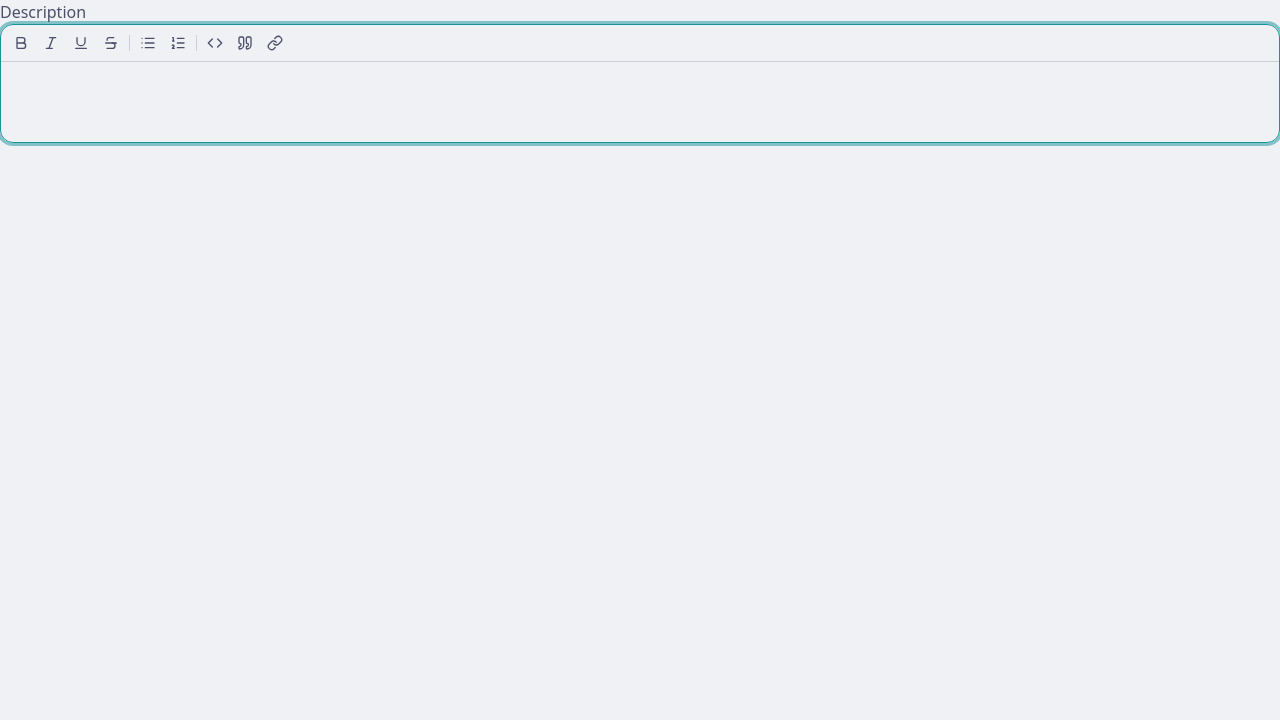
Test: RichTextEditor › links › clears the rejection once the address is edited
The image size is (1280, 720).
Type keys "towels"
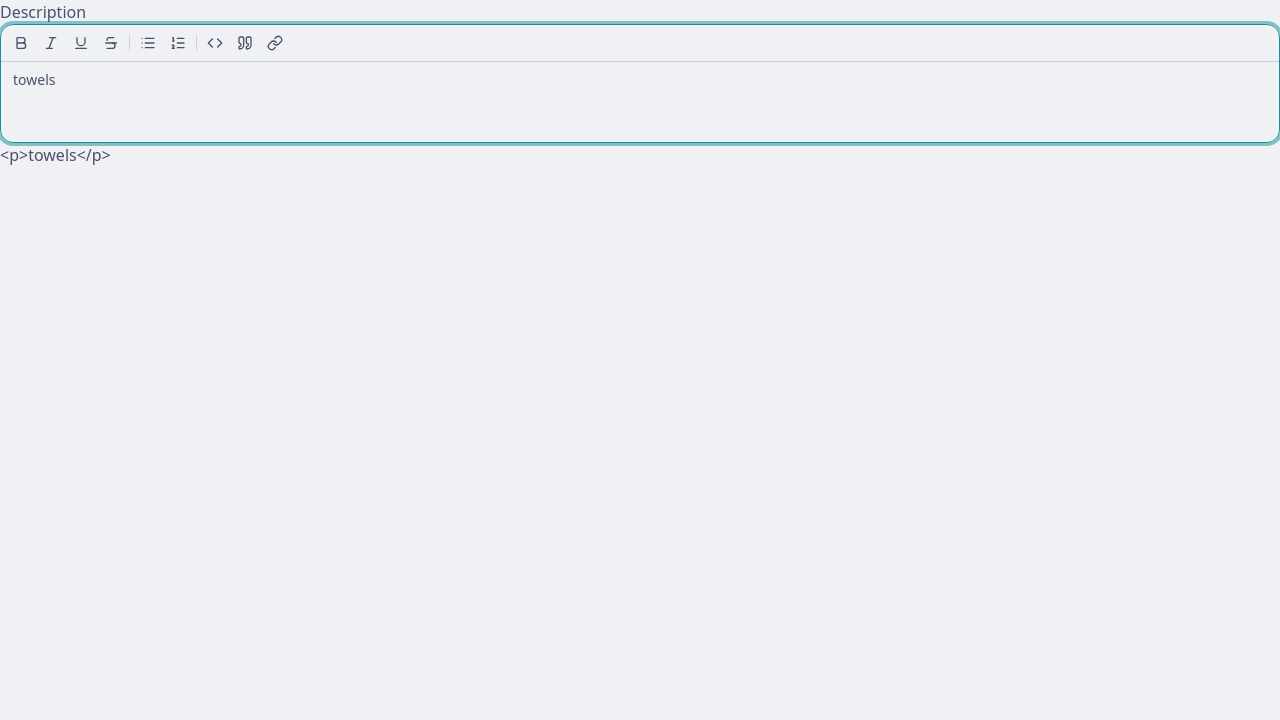
Type keys "{Control>}a{/Control}"
Click the button named "Link": [275, 43] box [261,29,289,57]
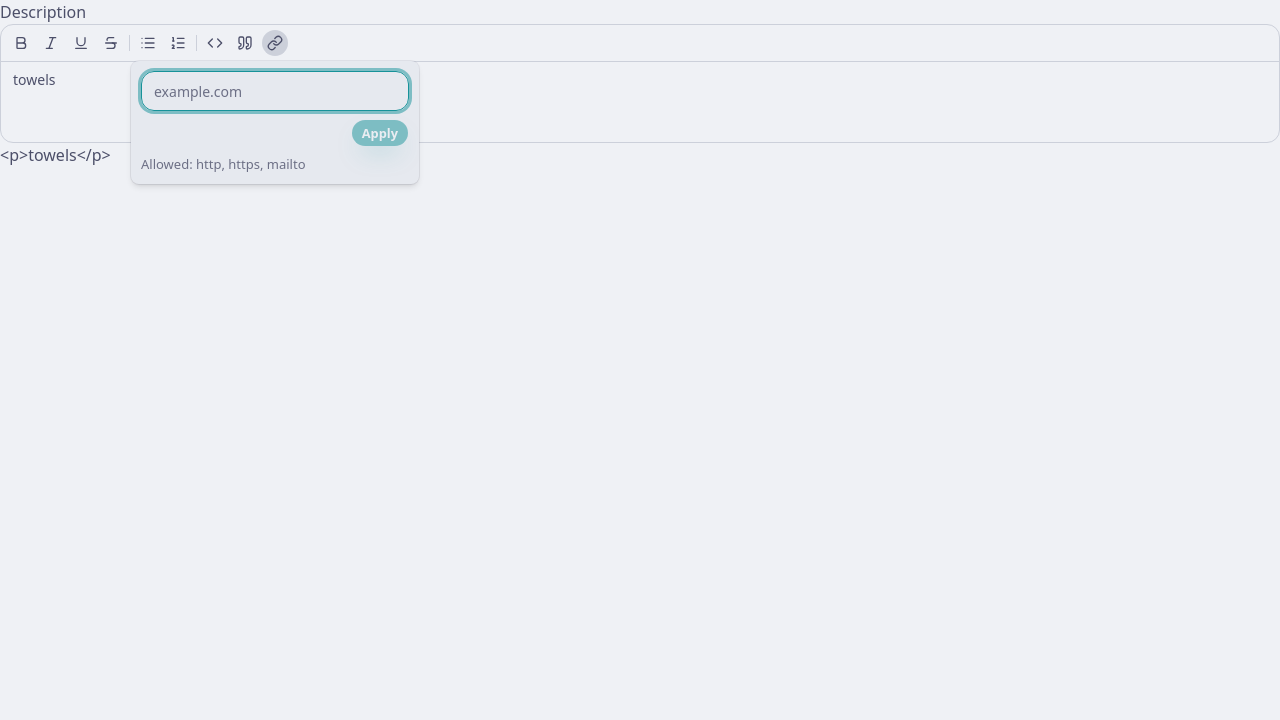
In the field named "Link address": [275, 91] box [141,71,409,111], type "tel:123"
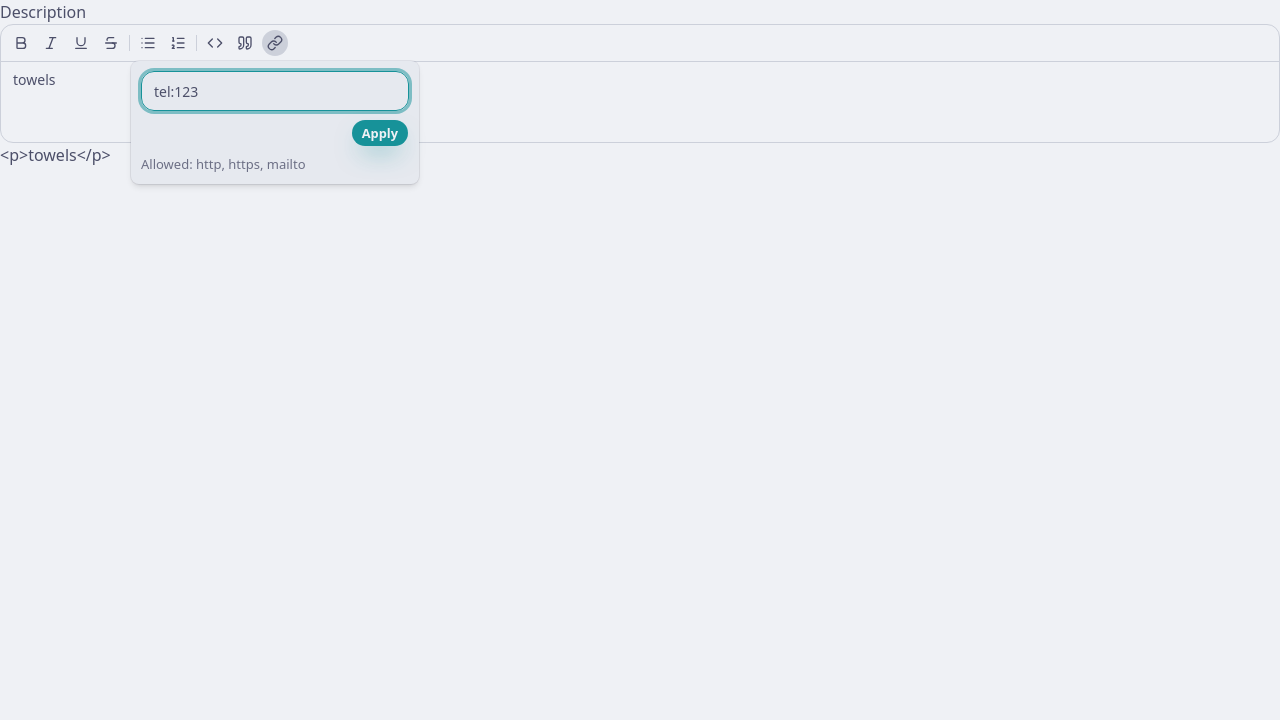
Click the button "Apply": [380, 133] box [351,119,409,147]
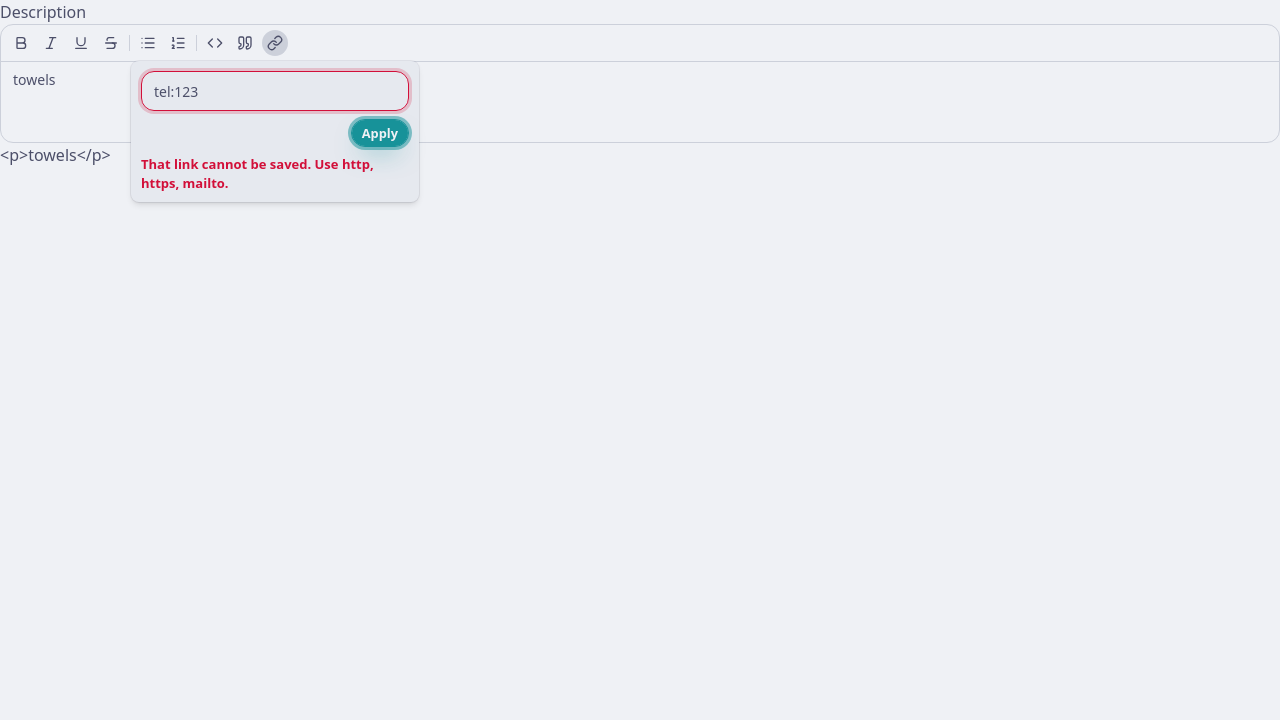
Result: the message "That link cannot be saved. Use http, https, mailto." is shown at [141,155,409,192]
Replace the text in the field named "Link address" with "example.com": [275, 91] box [141,71,409,111]
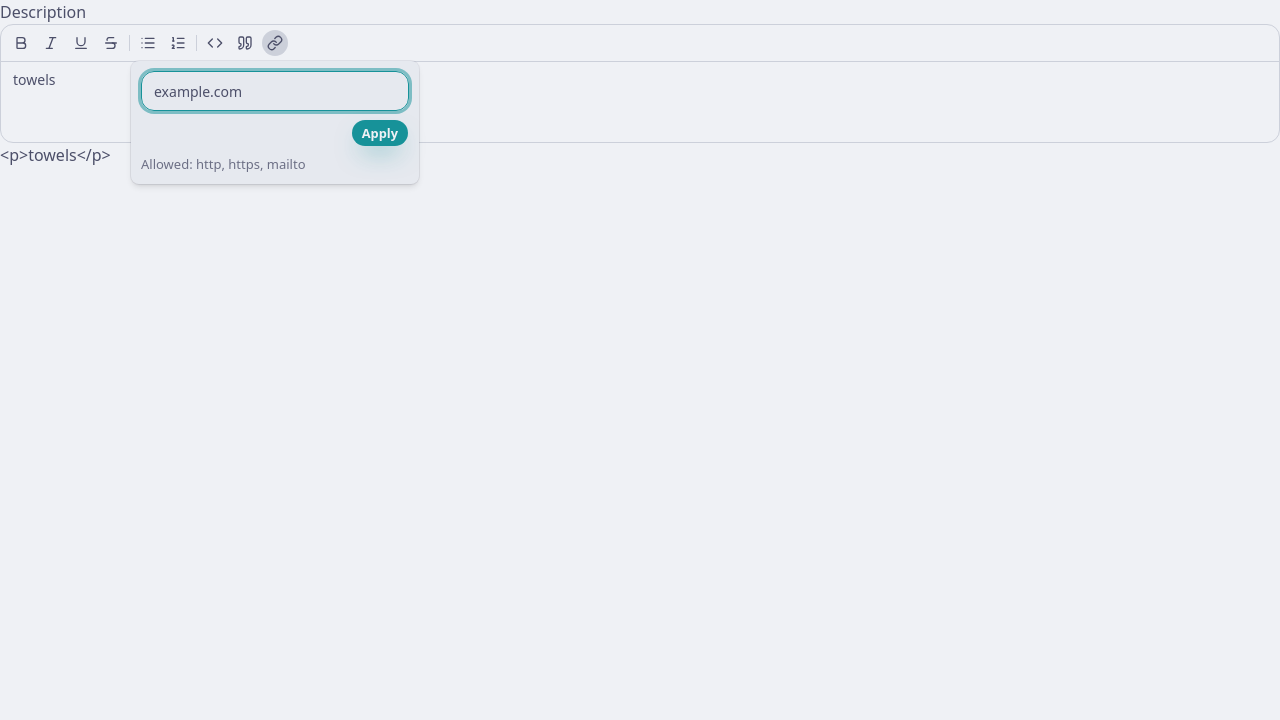
Click the button "Apply": [380, 133] box [351,119,409,147]
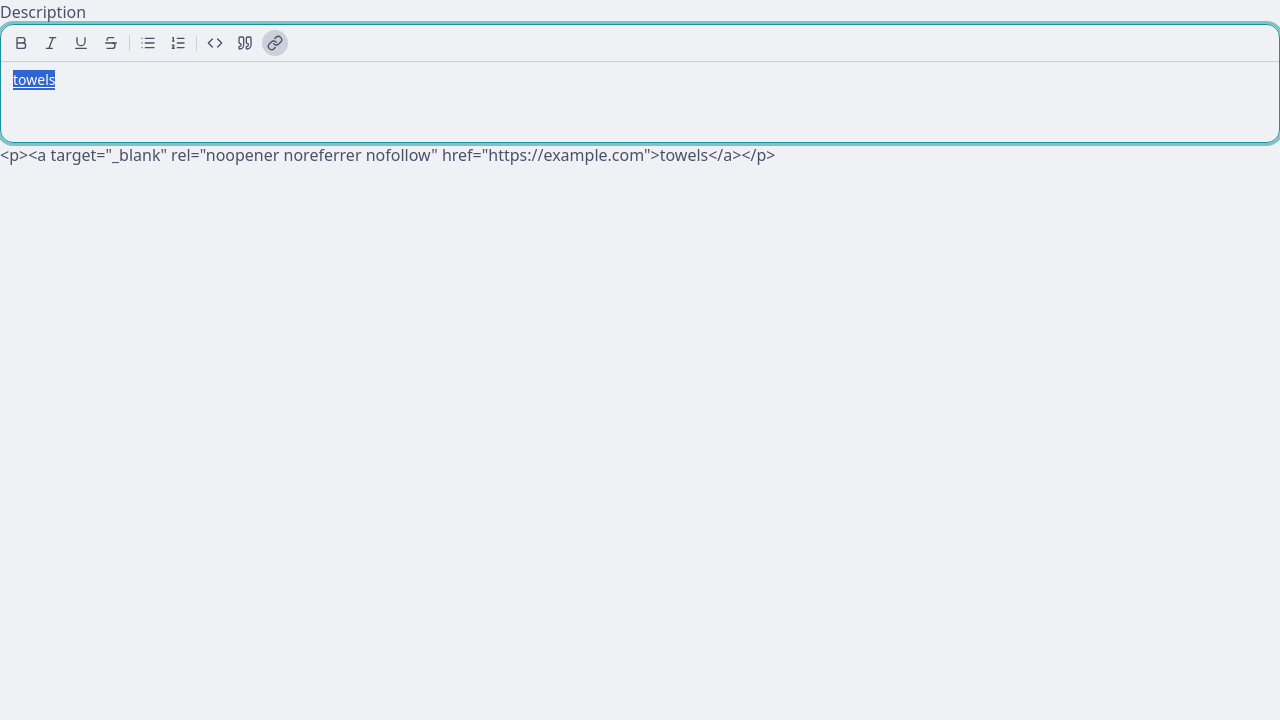
Result: the text with test id "emitted" shows "href=\"https://example.com\"" at [0,144,776,166]
